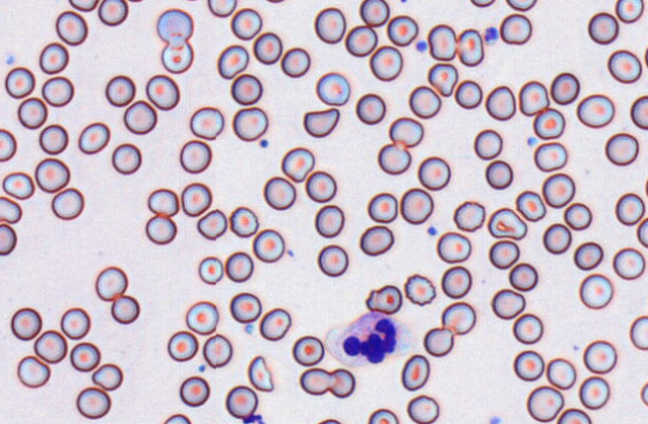GRAN: (324, 310, 414, 368)
PLT: (483, 26, 499, 46), (245, 323, 257, 336), (490, 413, 504, 424), (416, 39, 428, 51), (259, 137, 271, 149), (427, 224, 438, 237)
RBC: (526, 385, 564, 422), (156, 8, 193, 44), (576, 93, 614, 128), (487, 207, 527, 239), (34, 157, 70, 192), (232, 106, 268, 141), (399, 187, 433, 224), (541, 172, 575, 208), (145, 74, 179, 110), (583, 339, 617, 374), (123, 99, 157, 134), (315, 71, 350, 105), (604, 132, 639, 166), (607, 49, 642, 83), (579, 273, 612, 309), (281, 146, 314, 182), (369, 45, 402, 81), (314, 6, 346, 43), (33, 329, 67, 363), (441, 301, 476, 334), (76, 386, 111, 419), (189, 106, 224, 139), (95, 265, 127, 301), (16, 355, 50, 388), (225, 385, 258, 419), (185, 300, 218, 334), (263, 176, 296, 210), (417, 156, 450, 190), (436, 231, 471, 263), (55, 10, 87, 45), (217, 44, 249, 79), (518, 80, 549, 116), (400, 354, 430, 391), (365, 284, 402, 314), (160, 40, 193, 73), (344, 24, 377, 57), (408, 85, 441, 118), (51, 187, 84, 220), (377, 142, 411, 174), (252, 228, 284, 262), (179, 139, 211, 173), (388, 116, 423, 147), (359, 225, 394, 256), (485, 85, 516, 120), (230, 7, 262, 40), (612, 247, 645, 279), (259, 307, 291, 340), (10, 307, 42, 340), (41, 75, 74, 107), (78, 121, 110, 154), (578, 375, 609, 409), (491, 288, 525, 319), (427, 62, 458, 96), (180, 182, 211, 216), (202, 333, 232, 368), (427, 24, 456, 60), (457, 28, 484, 66), (403, 273, 435, 305), (453, 200, 485, 232), (533, 107, 565, 139), (386, 14, 418, 46), (230, 73, 262, 105), (440, 265, 471, 298), (587, 11, 618, 44), (499, 13, 532, 44), (533, 141, 567, 171), (513, 349, 544, 381), (292, 335, 324, 366), (179, 375, 210, 407), (229, 292, 261, 323), (317, 244, 348, 276), (4, 66, 35, 98), (305, 170, 336, 202), (314, 204, 344, 237), (252, 31, 282, 64), (17, 96, 47, 129), (39, 41, 69, 74), (423, 326, 454, 357), (512, 313, 543, 344), (167, 330, 198, 361), (515, 190, 546, 221), (546, 357, 576, 389), (60, 307, 90, 339), (197, 208, 227, 240), (355, 92, 385, 124), (111, 142, 141, 174), (105, 74, 135, 106), (406, 394, 439, 423), (615, 192, 644, 225), (550, 71, 579, 104), (299, 367, 333, 395), (145, 214, 176, 244), (488, 239, 519, 269), (229, 206, 259, 237), (280, 46, 310, 77), (367, 192, 397, 223), (38, 123, 68, 154), (147, 187, 179, 216), (542, 222, 571, 254), (70, 341, 100, 371), (224, 251, 253, 282), (473, 128, 502, 159), (91, 363, 123, 391), (2, 171, 34, 199), (110, 294, 139, 324), (573, 241, 603, 270), (508, 262, 537, 291), (485, 159, 513, 189), (454, 79, 482, 109), (563, 202, 592, 230), (328, 368, 355, 398), (97, 0, 128, 26), (359, 0, 389, 26), (198, 256, 223, 284), (615, 0, 643, 23), (629, 315, 647, 350), (0, 196, 22, 223), (630, 95, 647, 129), (556, 407, 591, 423), (0, 223, 17, 255), (0, 128, 16, 161), (207, 0, 236, 17), (367, 408, 399, 423), (505, 0, 537, 11), (636, 216, 647, 247), (68, 0, 98, 11), (162, 413, 191, 423), (242, 413, 265, 424), (640, 381, 647, 406), (470, 0, 495, 7), (316, 418, 342, 423), (644, 45, 648, 68), (644, 175, 648, 197), (264, 0, 286, 3), (126, 0, 145, 2)
Schistocyte: (247, 354, 276, 393), (303, 109, 340, 138)
